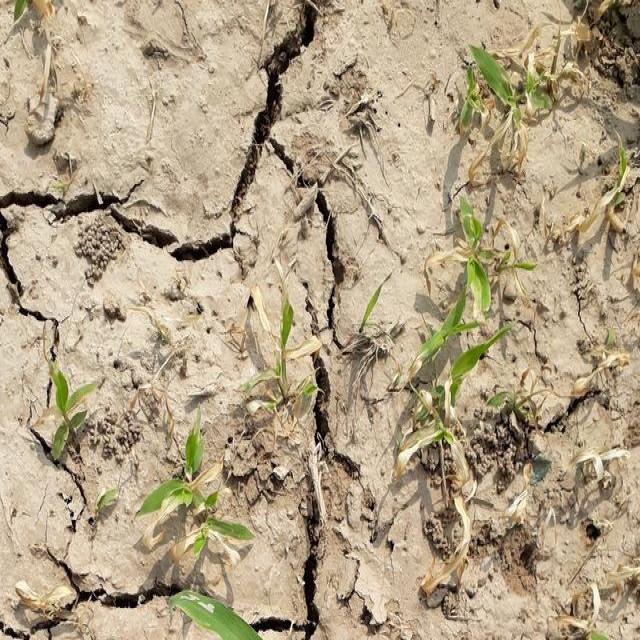weed: (426, 39, 531, 427), (135, 422, 263, 640)
